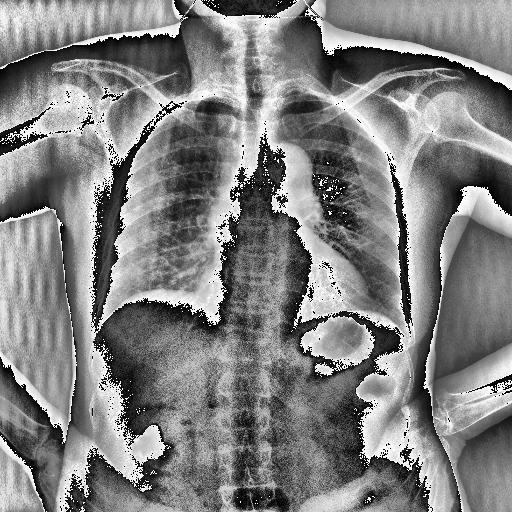0- Aortic enlargement: (208, 143, 330, 210), (227, 139, 316, 214), (242, 141, 313, 197)
2- Calcification: (350, 153, 364, 166)
